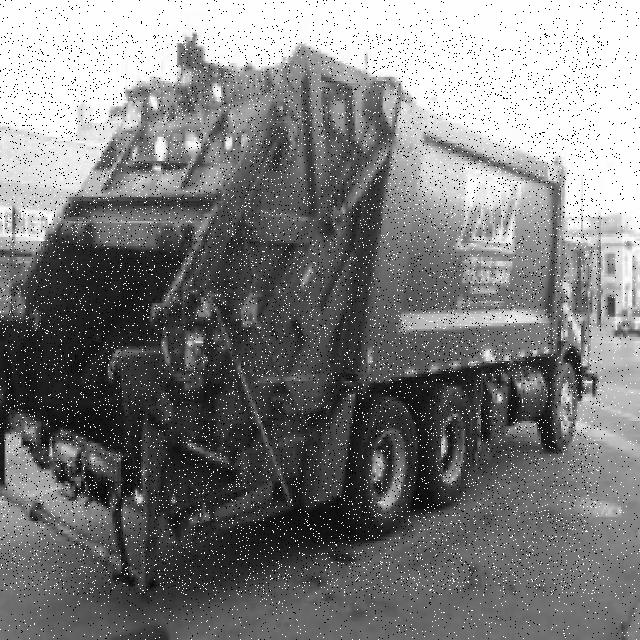Garbage Truck: (0, 35, 602, 595)
